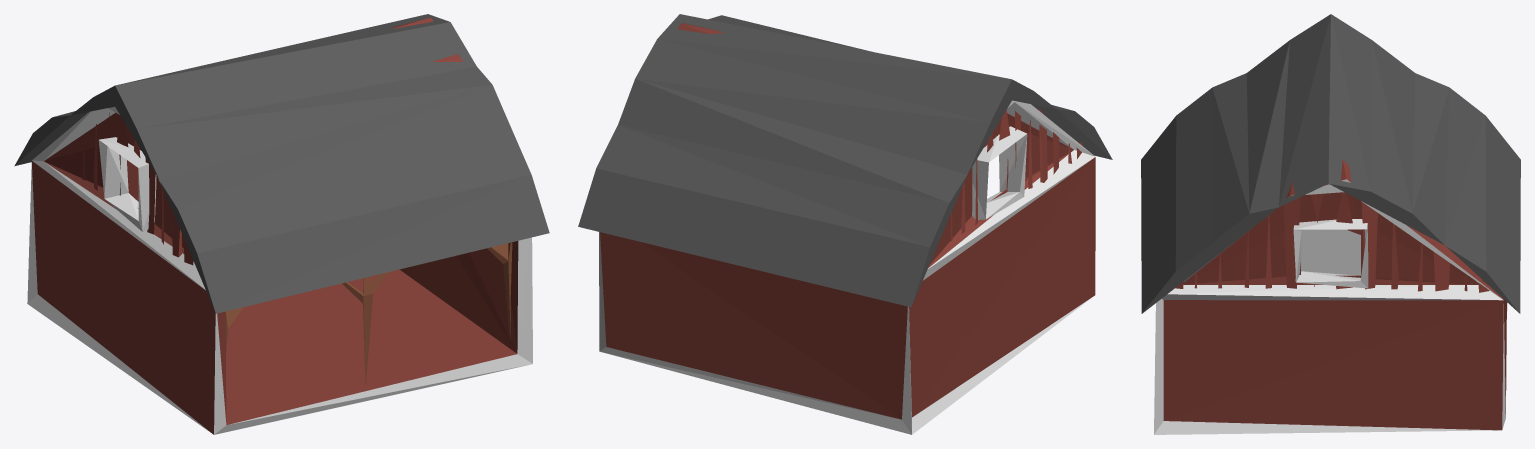
Rendered from OpenBarn.lod2.glb.
The picture shows the model from 3 angles, left to right: view 1: azimuth 30°, elevation 25°; view 2: azimuth 150°, elevation 25°; view 3: azimuth 270°, elevation 25°; orthographic projection. The views are drawn at different scales.
Parts seen in each view (by area): view 1: OpenBarn; view 2: OpenBarn; view 3: OpenBarn.
Boxes of the visible parts, x1=… form: OpenBarn: x1=14, y1=14, x2=549, y2=434; OpenBarn: x1=578, y1=14, x2=1112, y2=434; OpenBarn: x1=1141, y1=14, x2=1520, y2=434.
Size of the model in its own units: 5.74 by 4.74 by 6.
